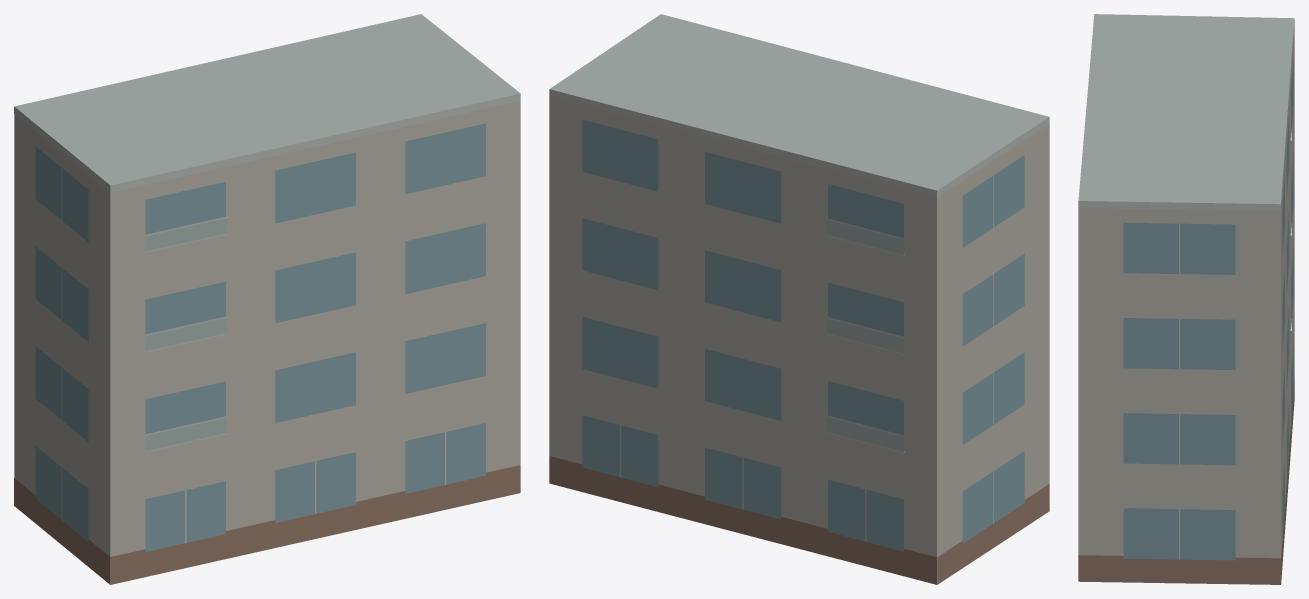
The model's file is survey-upis-33006748.glb.
3 renders of one model, left to right at view 1: azimuth 30°, elevation 25°; view 2: azimuth 150°, elevation 25°; view 3: azimuth 270°, elevation 25°, orthographic. The views are drawn at different scales.
Visible parts, largest first — view 1: survey-upis-33006748.tmp; view 2: survey-upis-33006748.tmp; view 3: survey-upis-33006748.tmp.
Boxes of the visible parts, bbox=[...] form: survey-upis-33006748.tmp: bbox=[14, 14, 520, 584]; survey-upis-33006748.tmp: bbox=[549, 14, 1049, 584]; survey-upis-33006748.tmp: bbox=[1078, 14, 1294, 584].
Bounding box in the file's own units: 14.37 × 13.4 × 6.91.
